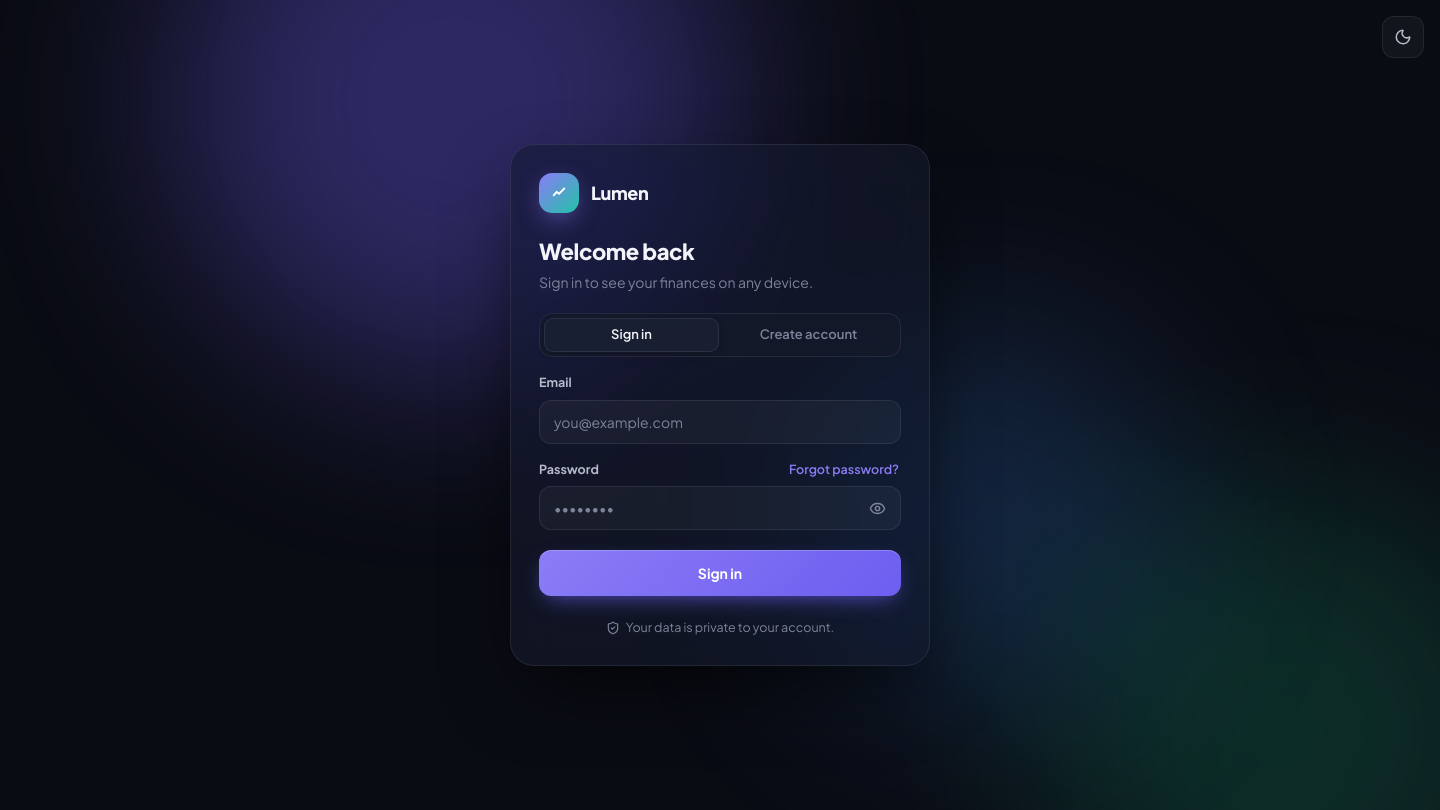
Test: Sign in › rejects a wrong password with a clear message
Expected: the heading "Welcome back" is shown, top-left (539, 237), bottom-right (694, 265)
Type "alice@example.com" into the field with placeholder "you@example.com" at (720, 422), box top-left (539, 400), bottom-right (901, 444)
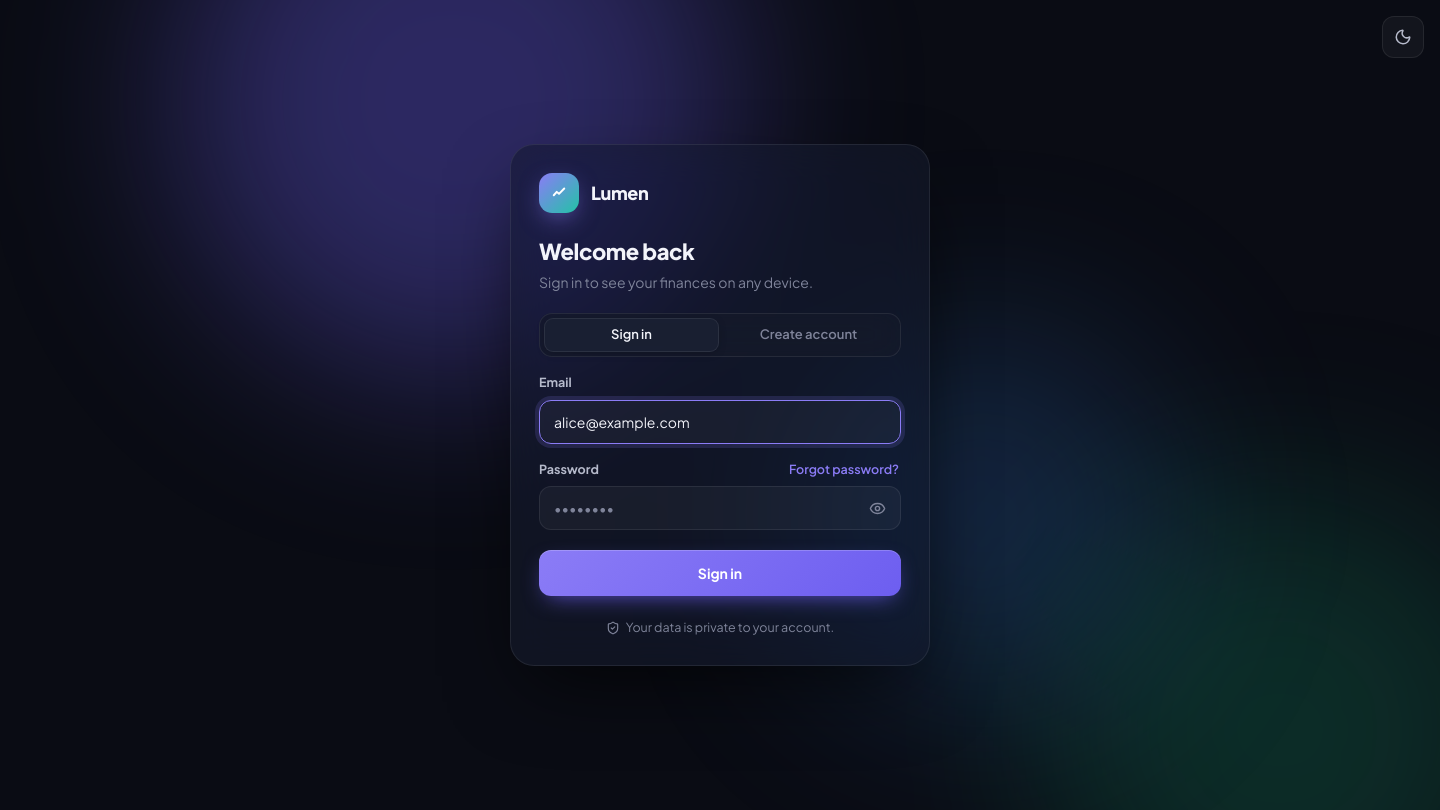
Type "wrong-password" into the password field labelled "Password" at (720, 508), box top-left (539, 486), bottom-right (901, 530)
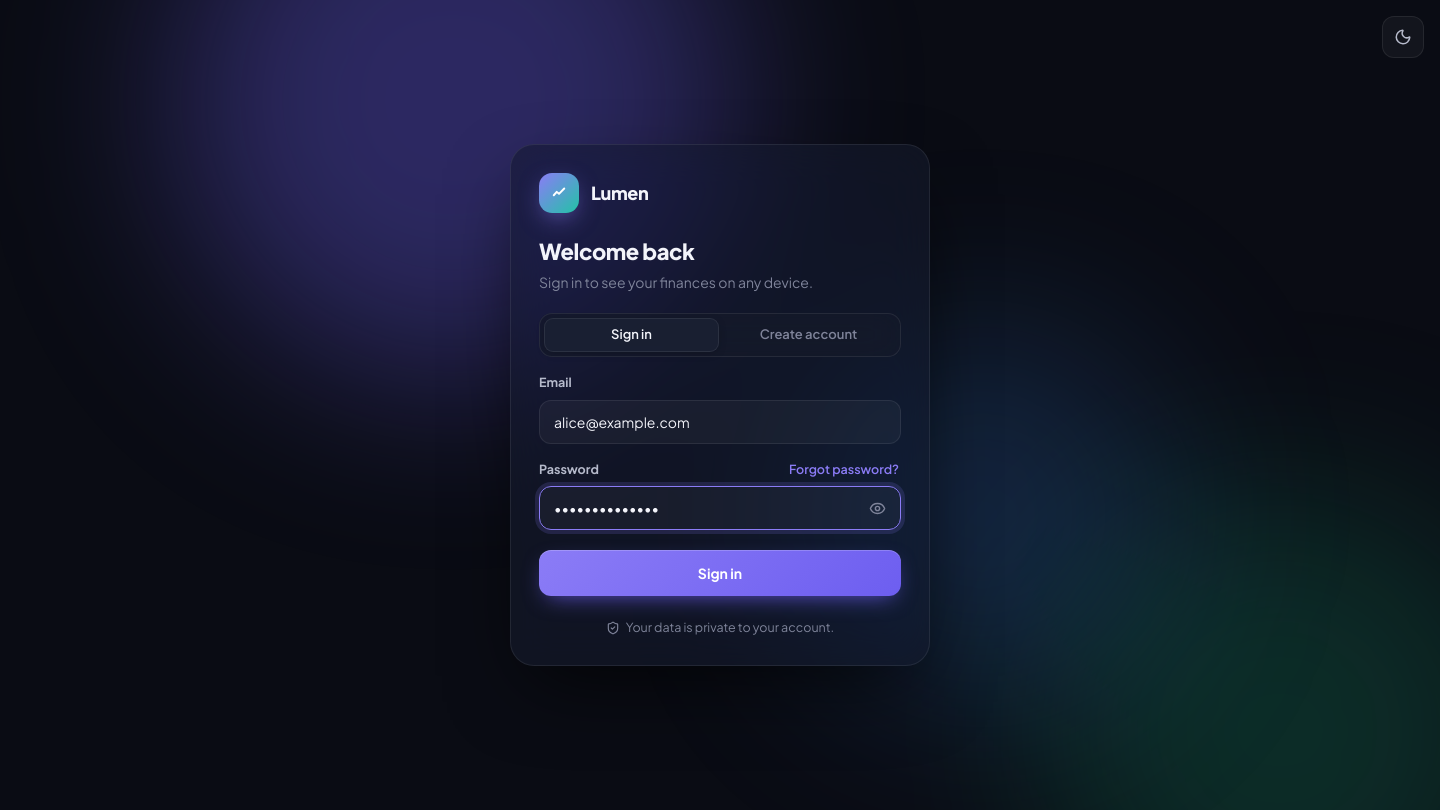
Click the button "Sign in" at (720, 573), box top-left (539, 550), bottom-right (901, 596)
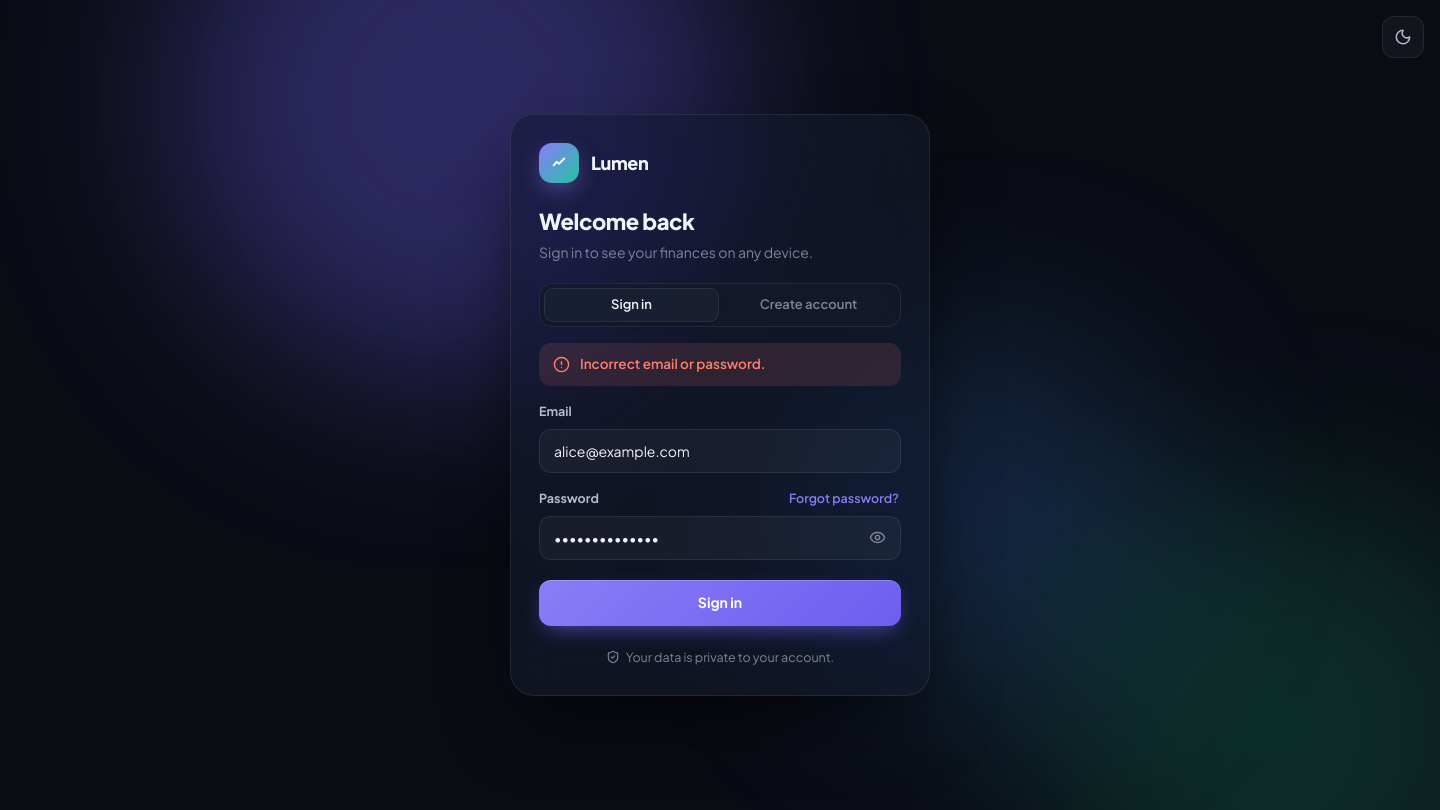
Result: the message reads "Incorrect email or password." at top-left (580, 355), bottom-right (766, 372)
